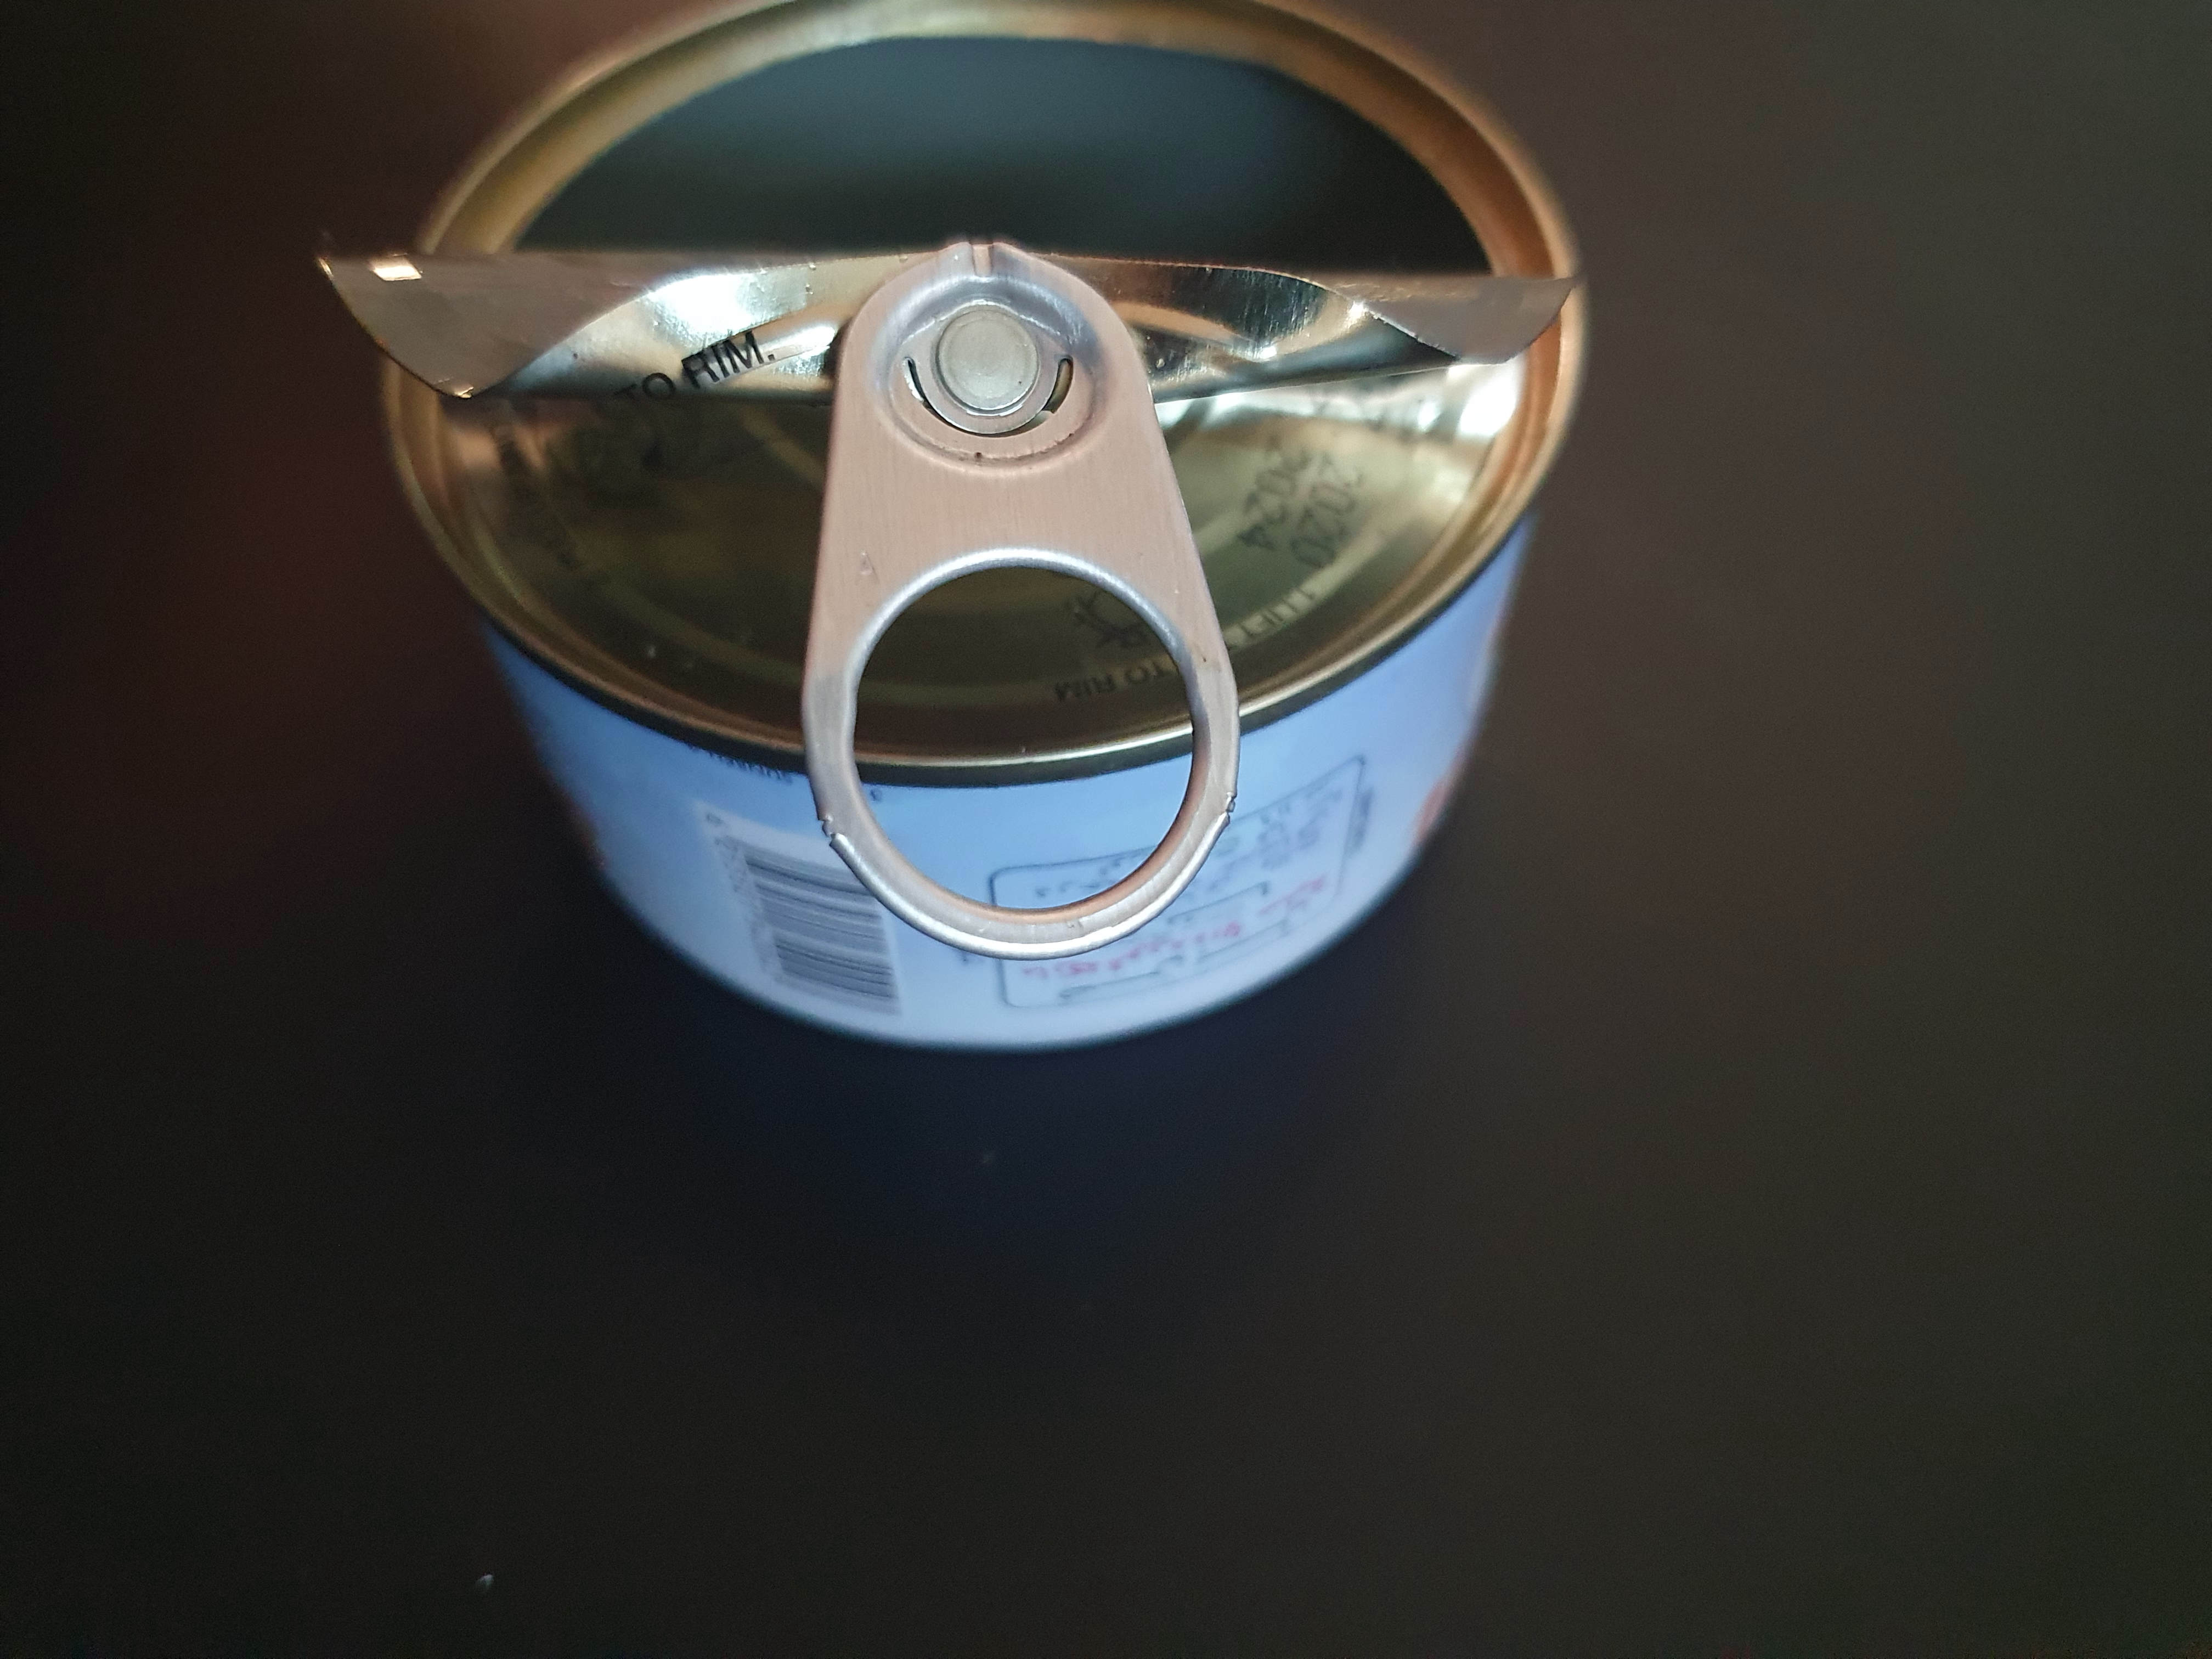metal: (315, 0, 1669, 1148)
